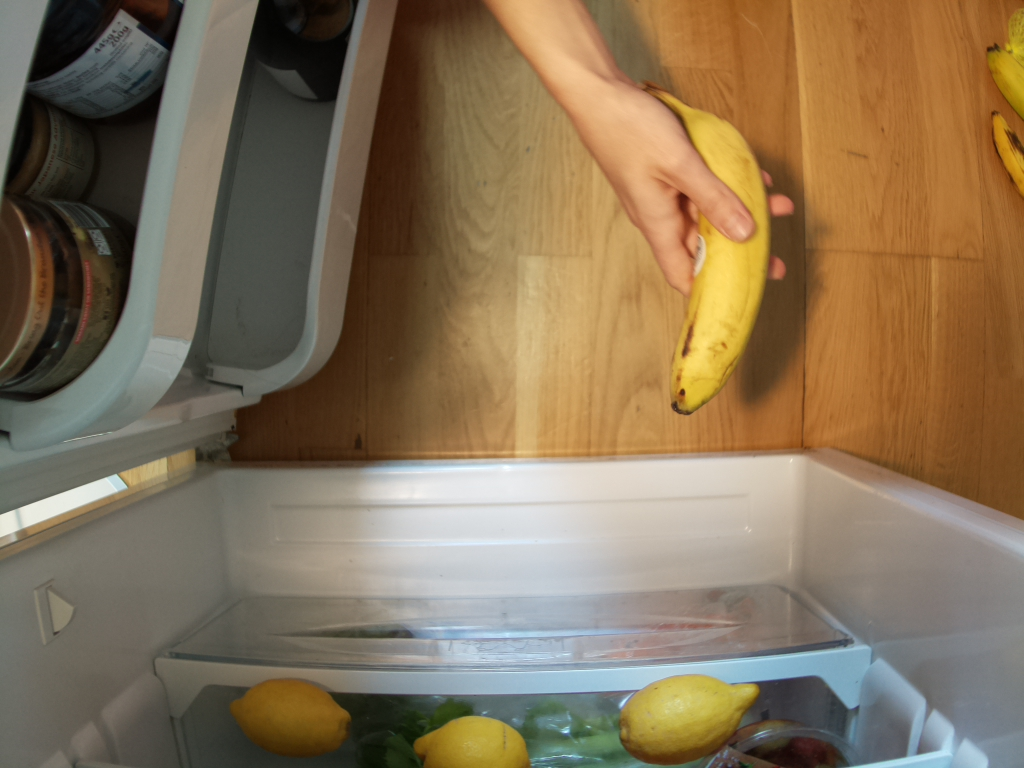banana: (645, 94, 770, 412)
